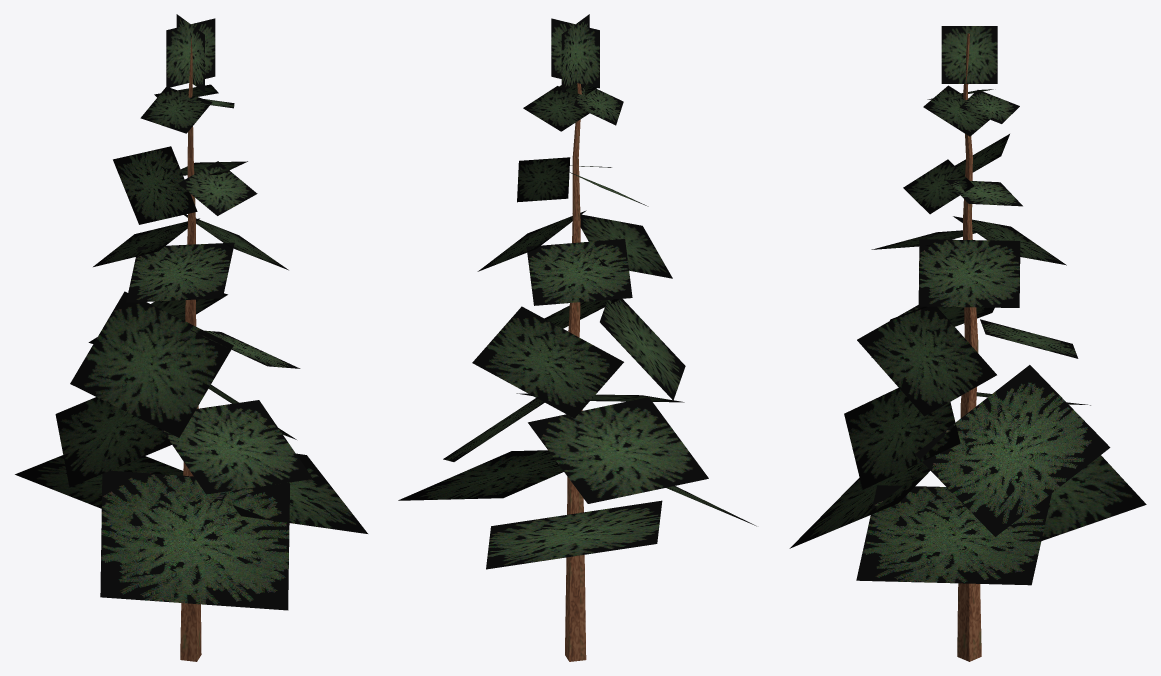
File: Pine_1_LOD2.gltf
The picture shows the model from 3 angles, left to right: view 1: azimuth 30°, elevation 25°; view 2: azimuth 150°, elevation 25°; view 3: azimuth 270°, elevation 25°; orthographic projection.
Parts seen in each view (by area): view 1: Pine_1_LOD2; view 2: Pine_1_LOD2; view 3: Pine_1_LOD2.
Boxes of the visible parts, left/top/right/bottom form: Pine_1_LOD2: left=15, top=14, right=367, bottom=661; Pine_1_LOD2: left=398, top=14, right=756, bottom=661; Pine_1_LOD2: left=789, top=26, right=1146, bottom=661.
Size of the model in its own units: 8.1 by 17.18 by 8.83.
Materials: 2 (2 with a texture image).
